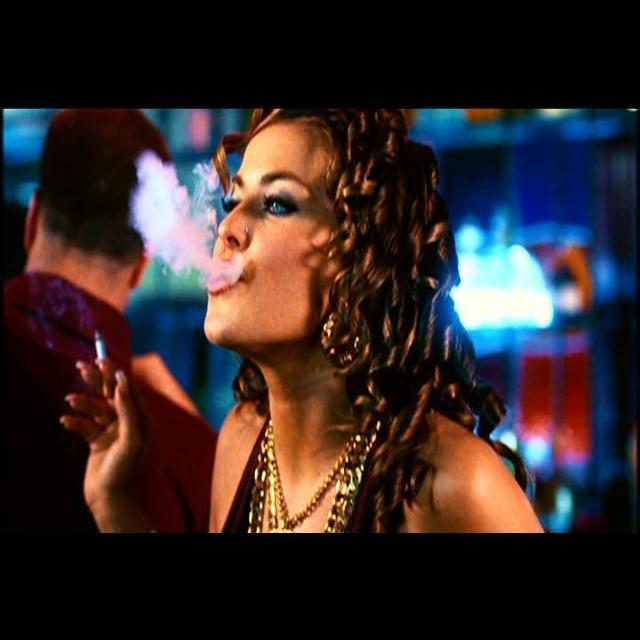rokok: (84, 330, 118, 400)
